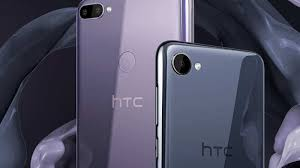htc: (74, 1, 196, 168), (154, 38, 266, 168)
